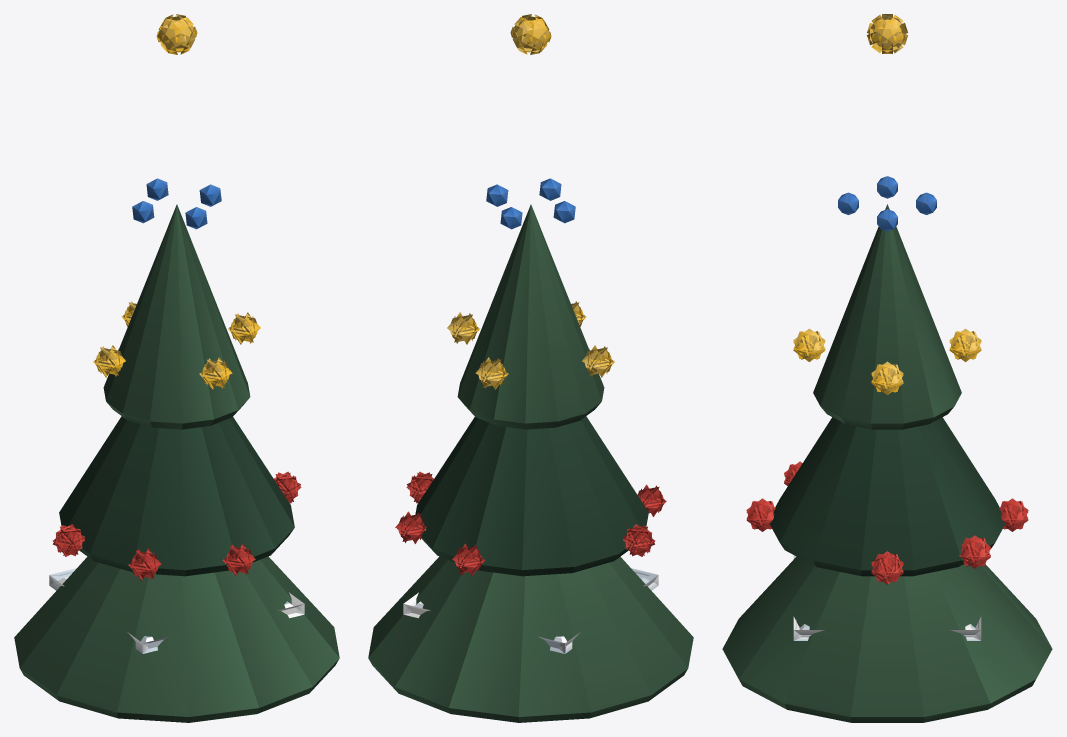
File: dt_mega_tree.fbx
The picture shows the model from 3 angles, left to right: view 1: azimuth 30°, elevation 25°; view 2: azimuth 150°, elevation 25°; view 3: azimuth 270°, elevation 25°; orthographic projection.
Parts seen in each view (by area): view 1: dt_mega_tree; view 2: dt_mega_tree; view 3: dt_mega_tree.
Boxes of the visible parts, box(x1,y1,x2,y2) form: dt_mega_tree: box(14, 14, 339, 722); dt_mega_tree: box(368, 14, 693, 722); dt_mega_tree: box(722, 14, 1052, 722).
Bounding box in the file's own units: 2056 × 4500 × 2109.
